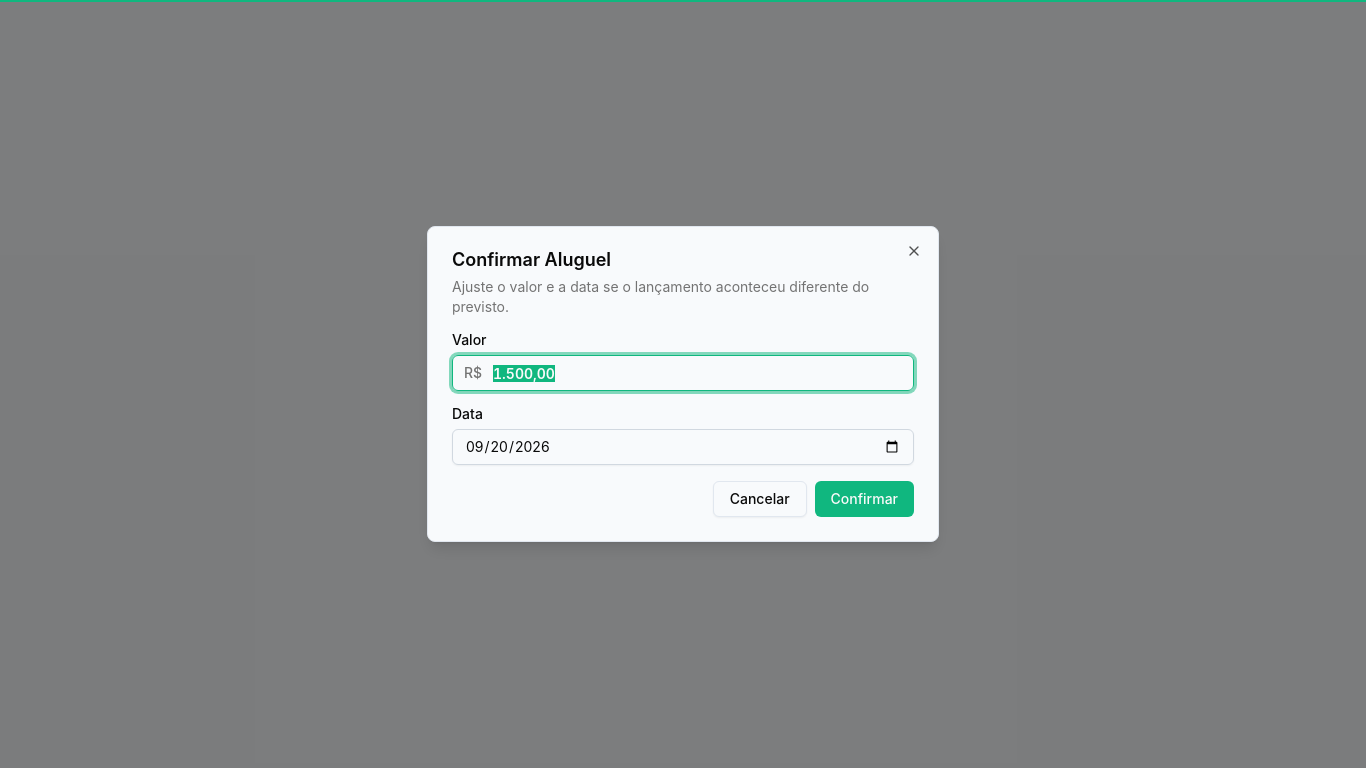
Scenario: ConfirmOccurrenceDialog › rejeita data no futuro
The width and height of the screenshot is (1366, 768).
Type "2099-01-01" into the date field labelled "Data" at (683, 447), box [452, 429, 914, 465]
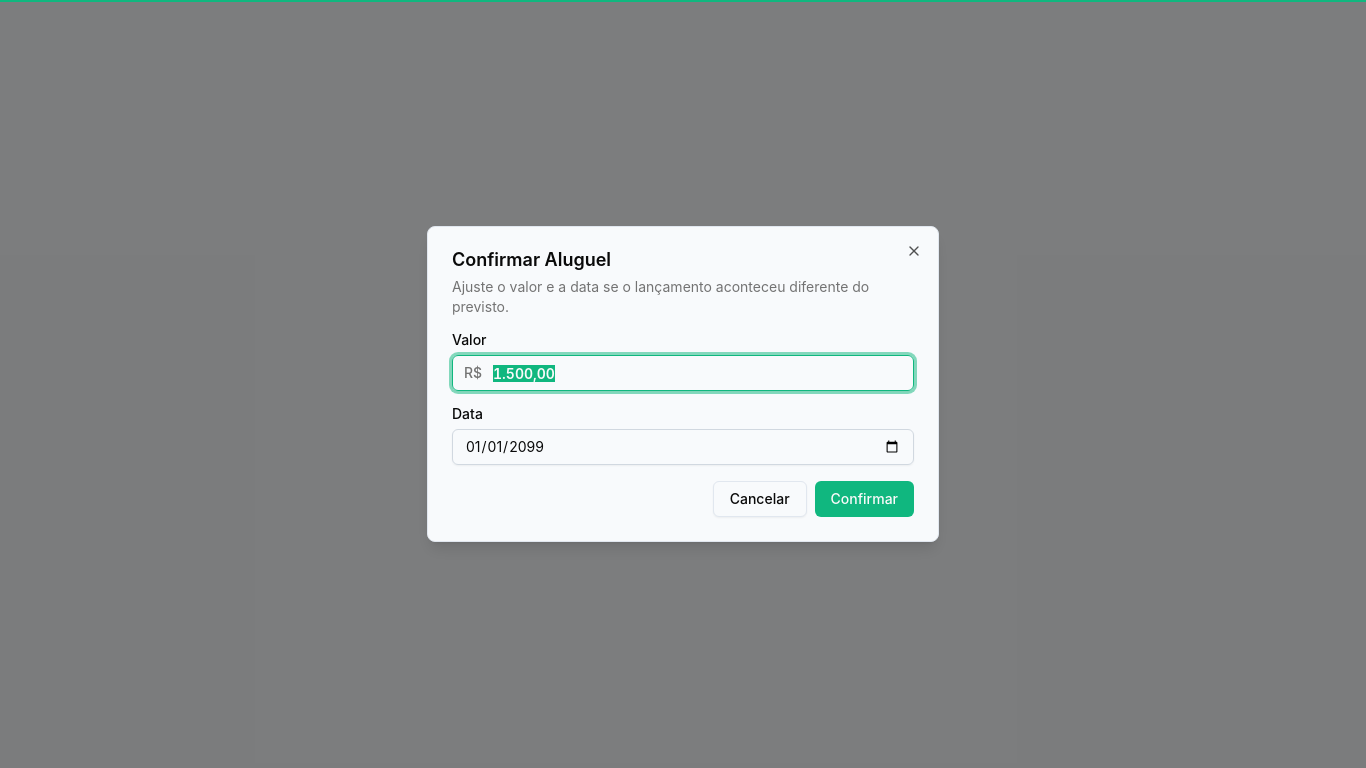
Click the button "Confirmar" at (864, 499), box [815, 481, 914, 517]
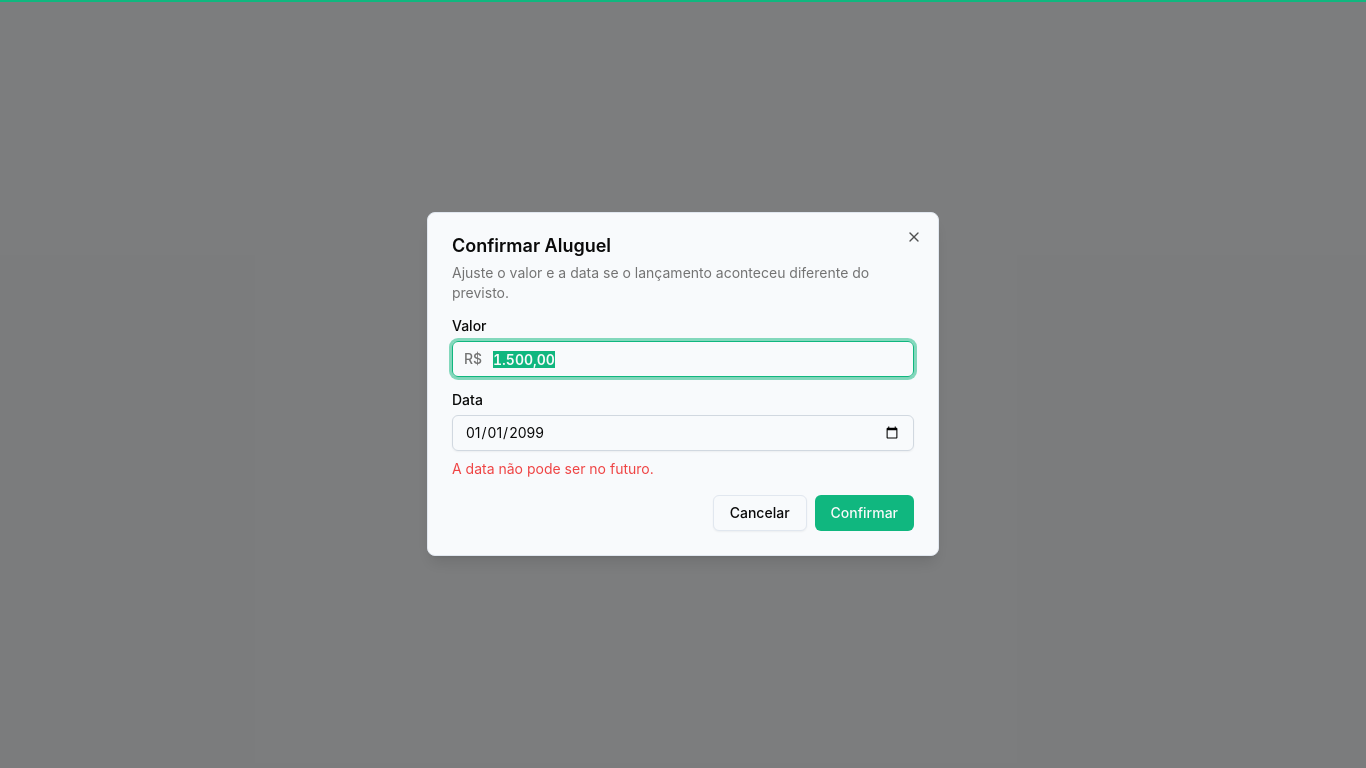
Expected: the text "A data não pode ser no futuro." is shown, [452, 460, 654, 477]
